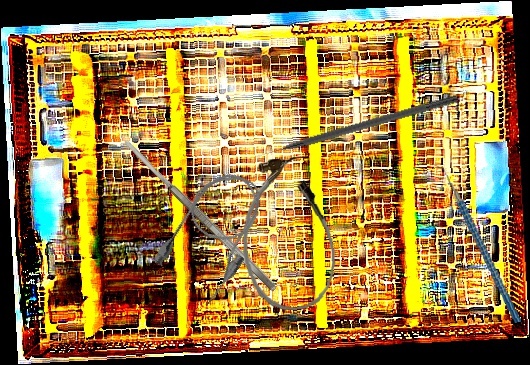Cannula: (147, 159, 282, 310), (235, 154, 341, 314)
Chopper: (429, 155, 521, 331)
Hook Surgical: (249, 92, 459, 163)
Spatula Surgical: (120, 135, 279, 294)
